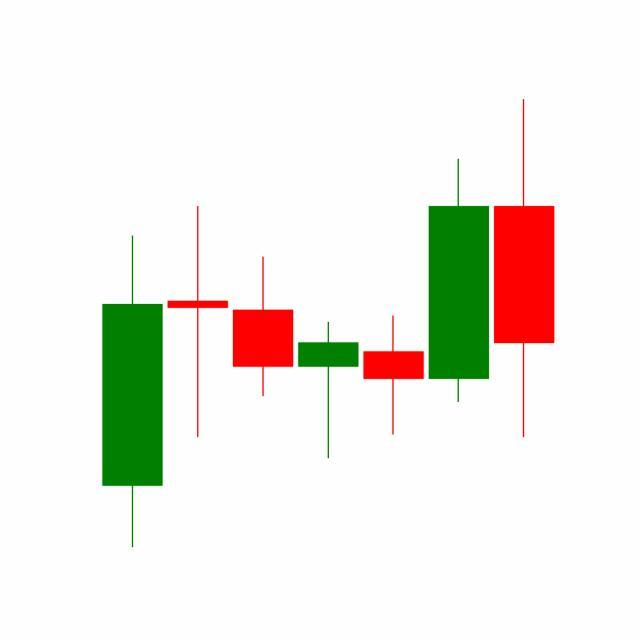Hikkake Pattern: (165, 156, 492, 463)
